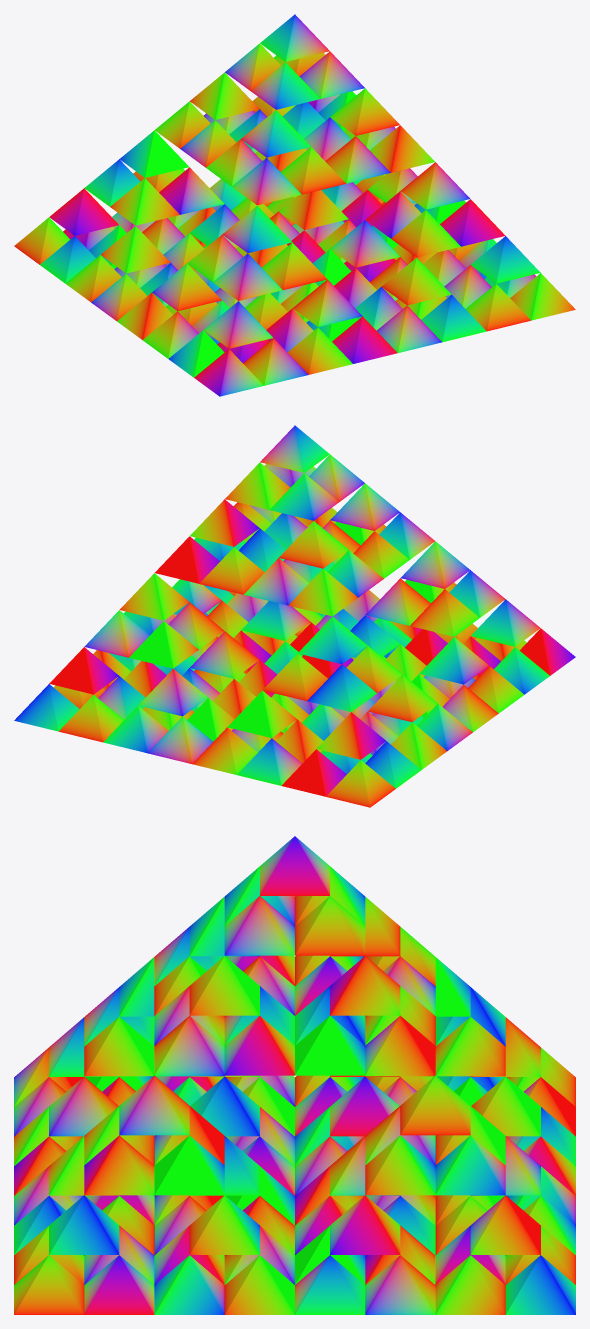
The model's file is fractal-pyramid.glb.
The picture shows the model from 3 angles, top to bottom: view 1: azimuth 30°, elevation 25°; view 2: azimuth 150°, elevation 25°; view 3: azimuth 270°, elevation 25°; orthographic projection. The views are drawn at different scales.
Visible parts, largest first — view 1: Pyramid; view 2: Pyramid; view 3: Pyramid.
Boxes of the visible parts, left/top/right/bottom form: Pyramid: left=14, top=14, right=575, bottom=396; Pyramid: left=14, top=425, right=575, bottom=807; Pyramid: left=14, top=836, right=575, bottom=1314.
Size of the model in its own units: 2.86 by 2.02 by 2.86.
